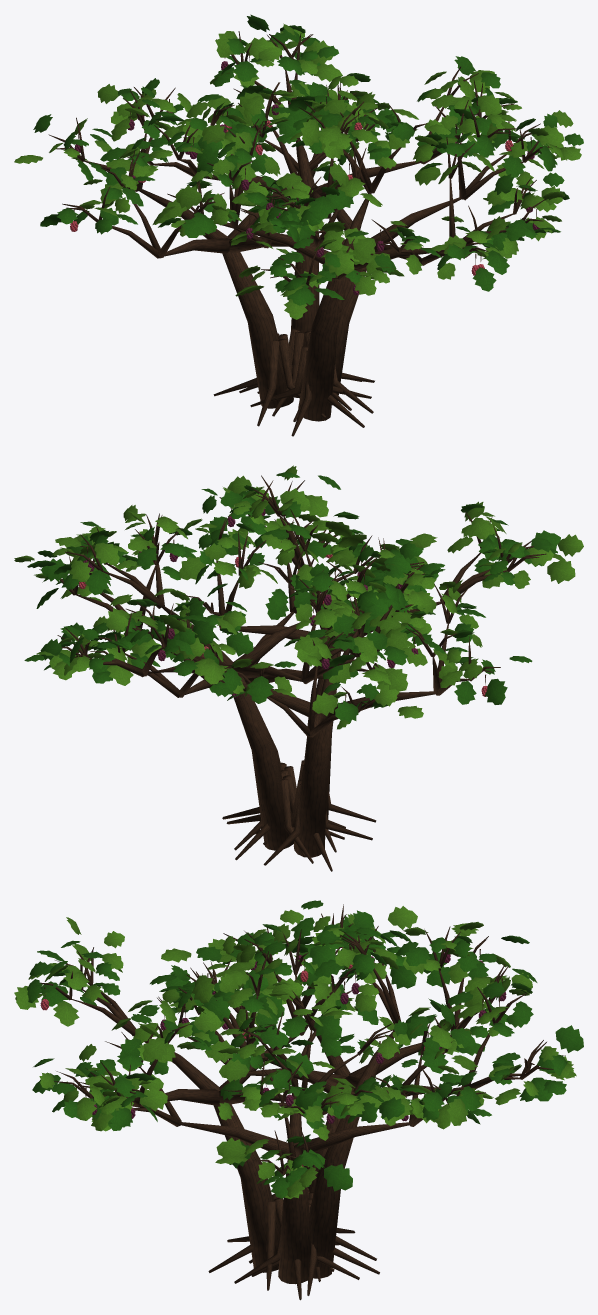
Rendered from 02_mulberry_v3_multistem.glb.
3 renders of one model, top to bottom at view 1: azimuth 30°, elevation 25°; view 2: azimuth 150°, elevation 25°; view 3: azimuth 270°, elevation 25°, orthographic. The views are drawn at different scales.
Parts seen in each view (by area): view 1: Mulberry variant | serrated broad leaves.001, Mulberry variant | distinct trunk and branching architecture, Mulberry variant | aggregate fruits and ripening stages.001; view 2: Mulberry variant | serrated broad leaves.001, Mulberry variant | distinct trunk and branching architecture, Mulberry variant | aggregate fruits and ripening stages.001; view 3: Mulberry variant | serrated broad leaves.001, Mulberry variant | distinct trunk and branching architecture, Mulberry variant | aggregate fruits and ripening stages.001.
Boxes of the visible parts, x1,y1,x2,y2 form: Mulberry variant | serrated broad leaves.001: [14, 14, 583, 319]; Mulberry variant | distinct trunk and branching architecture: [48, 31, 556, 436]; Mulberry variant | aggregate fruits and ripening stages.001: [70, 61, 539, 295]; Mulberry variant | serrated broad leaves.001: [14, 465, 583, 729]; Mulberry variant | distinct trunk and branching architecture: [39, 475, 546, 871]; Mulberry variant | aggregate fruits and ripening stages.001: [79, 509, 487, 697]; Mulberry variant | serrated broad leaves.001: [14, 900, 583, 1198]; Mulberry variant | distinct trunk and branching architecture: [40, 904, 565, 1300]; Mulberry variant | aggregate fruits and ripening stages.001: [40, 947, 506, 1166].
Bounding box in the file's own units: 6.46 × 3.67 × 6.02.
Materials: 5 (3 with a texture image).
